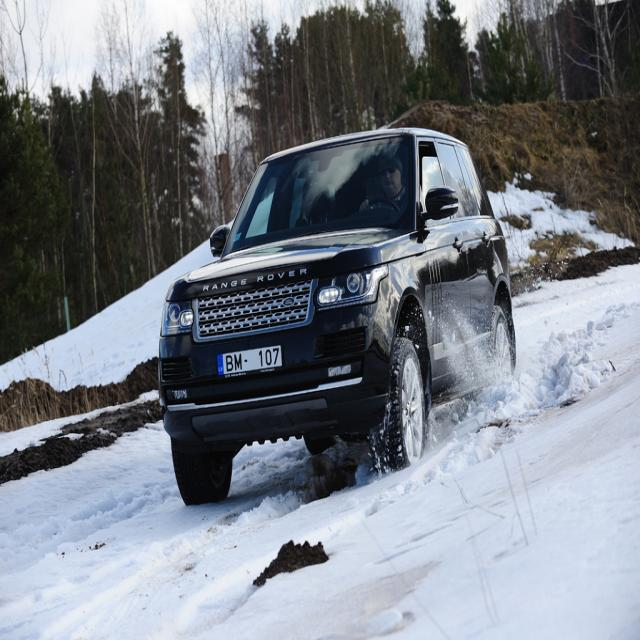car: (158, 126, 524, 516)
